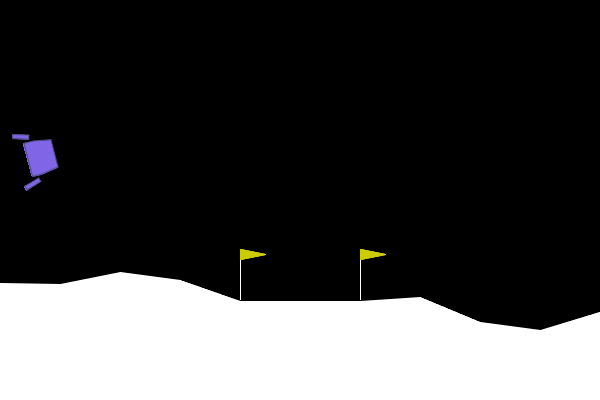lander: (10, 124, 64, 192)
